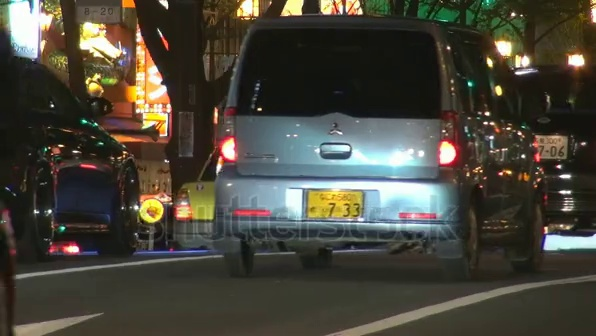licenseplate: (304, 182, 379, 229), (535, 134, 575, 161)
